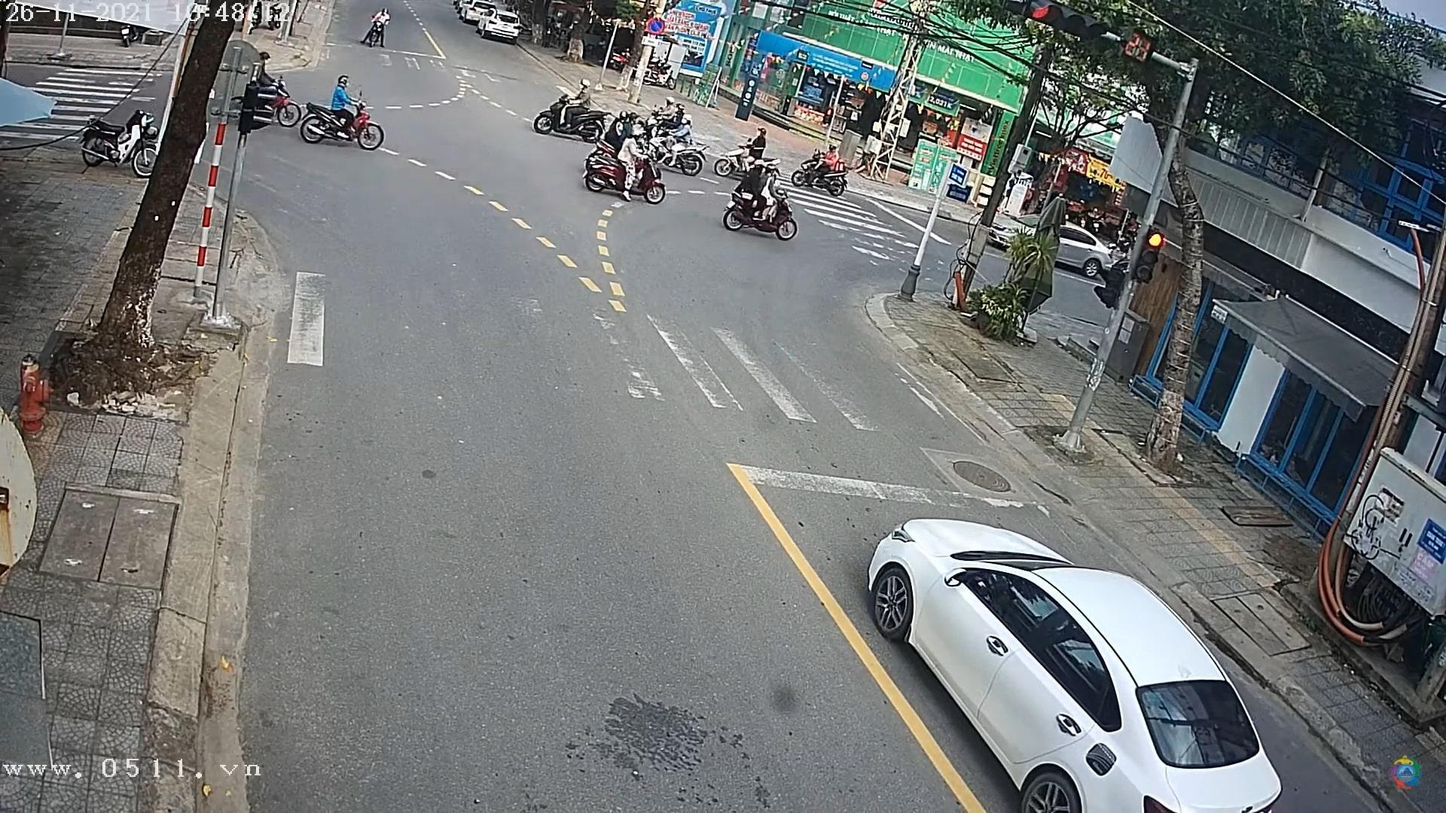car: (855, 518, 1303, 813)
motorbike: (302, 100, 385, 155), (584, 151, 667, 205), (721, 179, 796, 238), (532, 93, 607, 140), (795, 148, 848, 198)
